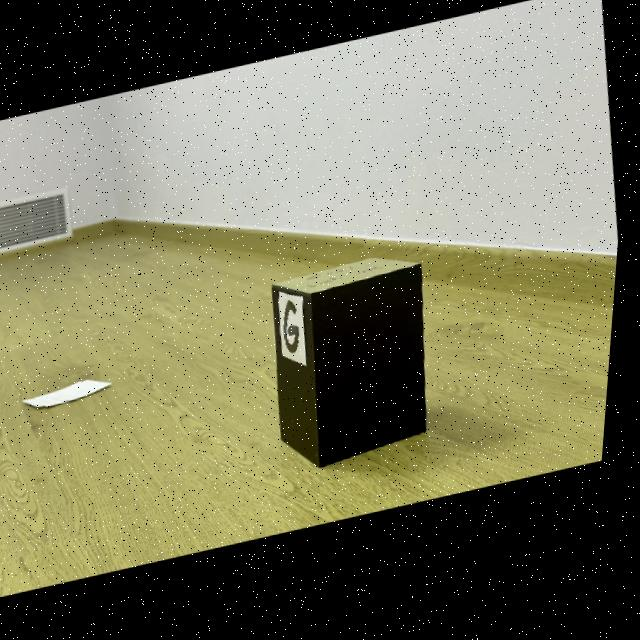G: (289, 307, 306, 359)
